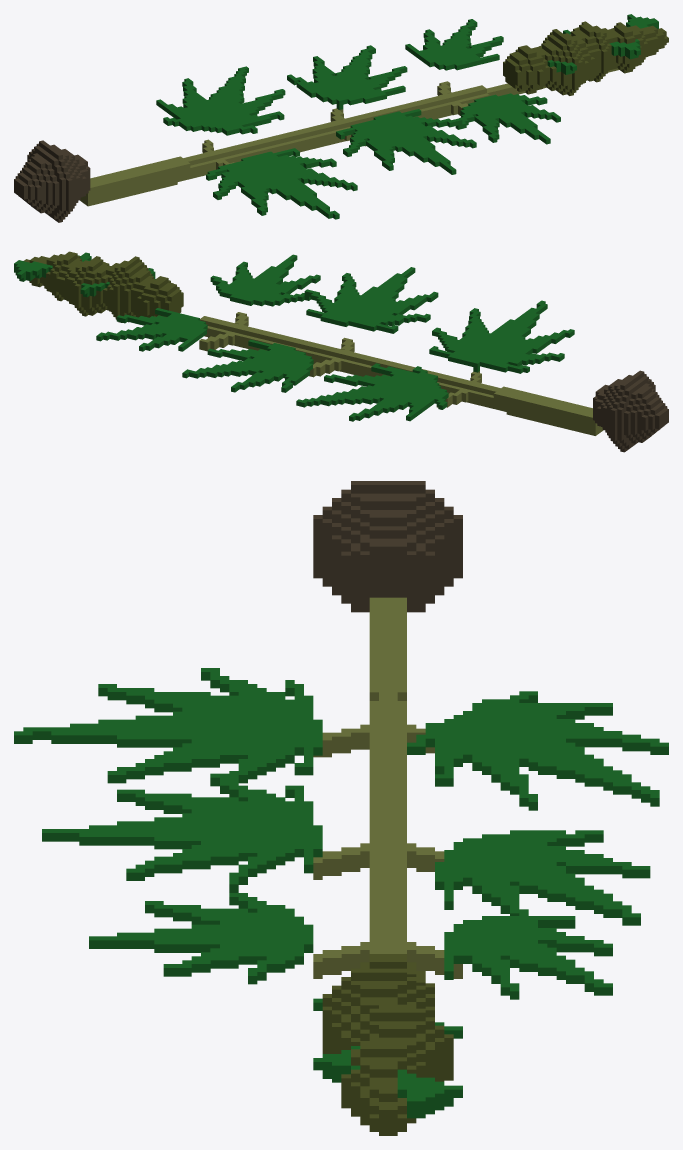
File: cannabis_plant.glb
3 renders of one model, top to bottom at view 1: azimuth 30°, elevation 25°; view 2: azimuth 150°, elevation 25°; view 3: azimuth 270°, elevation 25°, orthographic. The views are drawn at different scales.
Parts seen in each view (by area): view 1: cannabis_plant:compound; view 2: cannabis_plant:compound; view 3: cannabis_plant:compound.
Part boxes in pixels (x1,y1,x2,y2): cannabis_plant:compound: (14,14,668,222); cannabis_plant:compound: (14,251,668,452); cannabis_plant:compound: (14,481,668,1135).
Size of the model in its own units: 0.604 by 0.06 by 0.28.
